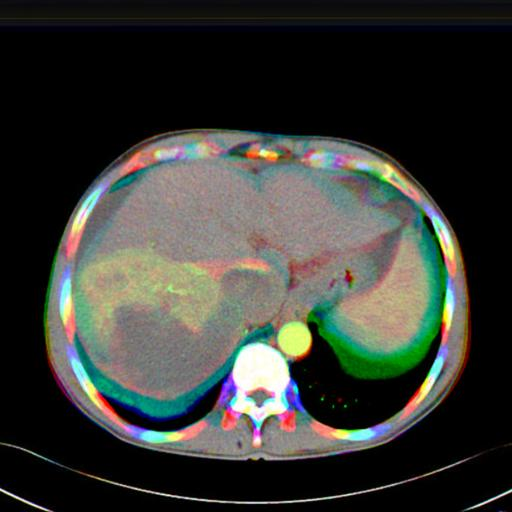Tumor: (107, 304, 230, 397), (220, 268, 285, 340)
